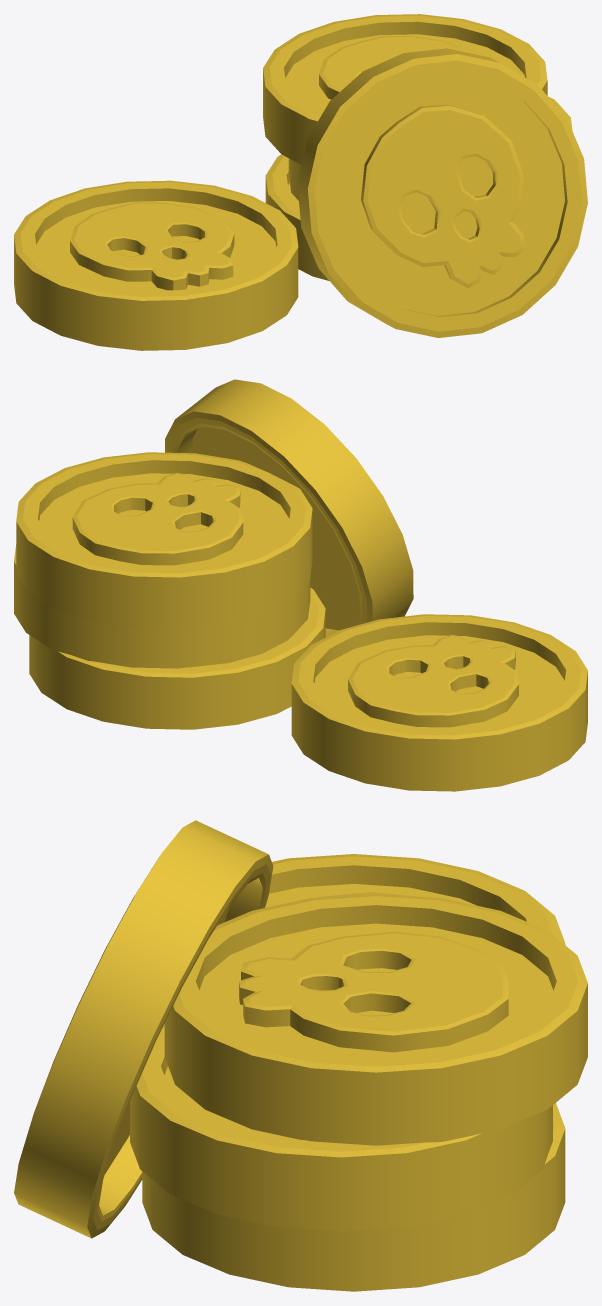
Rendered from Gold Coin.glb.
3 renders of one model, top to bottom at view 1: azimuth 30°, elevation 25°; view 2: azimuth 150°, elevation 25°; view 3: azimuth 270°, elevation 25°, orthographic. The views are drawn at different scales.
Parts seen in each view (by area): view 1: Cylinder.004_7, Cylinder.005_8, Cylinder.003_6, Cylinder_2, Cylinder.002_5; view 2: Cylinder.005_8, Cylinder.003_6, Cylinder.004_7, Cylinder_2, Cylinder.002_5; view 3: Cylinder.003_6, Cylinder.004_7, Cylinder.002_5, Cylinder_2, Cylinder.005_8.
Boxes of the visible parts, bbox=[...] form: Cylinder.004_7: bbox=[297, 48, 587, 337]; Cylinder.005_8: bbox=[14, 180, 298, 350]; Cylinder.003_6: bbox=[263, 14, 547, 164]; Cylinder_2: bbox=[265, 154, 328, 280]; Cylinder.002_5: bbox=[288, 96, 572, 200]; Cylinder.005_8: bbox=[291, 614, 587, 791]; Cylinder.003_6: bbox=[16, 452, 312, 629]; Cylinder.004_7: bbox=[165, 379, 413, 637]; Cylinder_2: bbox=[29, 587, 325, 729]; Cylinder.002_5: bbox=[14, 544, 310, 668]; Cylinder.003_6: bbox=[164, 893, 587, 1145]; Cylinder.004_7: bbox=[14, 820, 273, 1238]; Cylinder.002_5: bbox=[130, 1024, 552, 1231]; Cylinder_2: bbox=[142, 1103, 565, 1291]; Cylinder.005_8: bbox=[265, 854, 565, 944].
Bounding box in the file's own units: 6.48 × 3.1 × 4.2.
